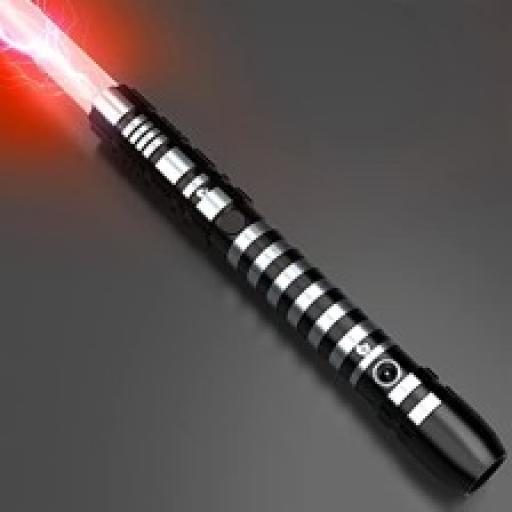lightsaber: (2, 0, 505, 494)
